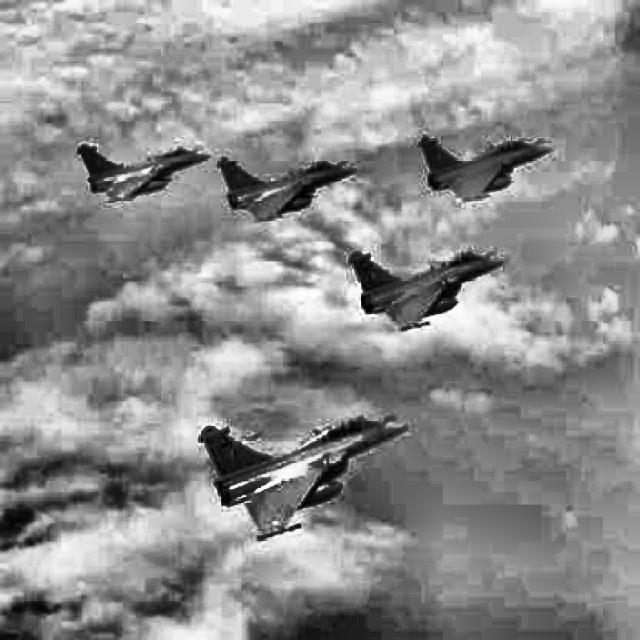Rafale: (198, 412, 410, 542), (348, 250, 506, 332), (216, 155, 358, 222), (418, 135, 552, 203), (76, 141, 213, 204)
